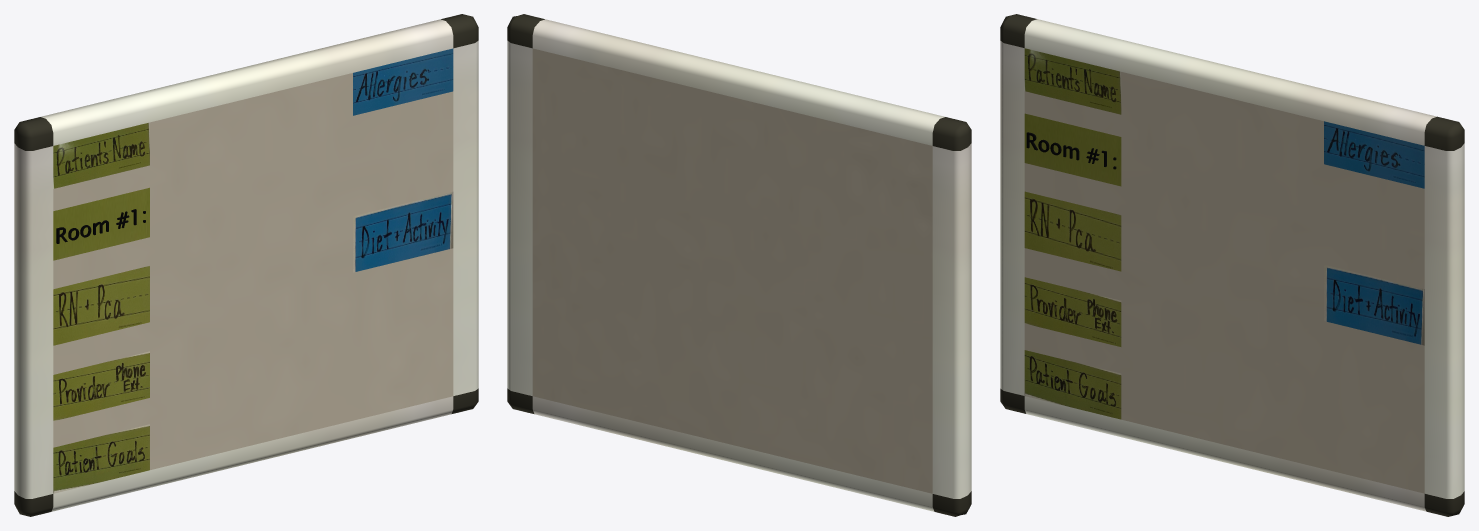
File: room #1.fbx
The picture shows the model from 3 angles, left to right: view 1: azimuth 30°, elevation 25°; view 2: azimuth 150°, elevation 25°; view 3: azimuth 330°, elevation 25°; orthographic projection.
Parts seen in each view (by area): view 1: room__1; view 2: room__1; view 3: room__1.
Boxes of the visible parts, x1,y1,x2,y2 form: room__1: (14, 14, 478, 516); room__1: (507, 14, 971, 516); room__1: (1000, 14, 1464, 516).
Size of the model in its own units: 405 by 331 by 24.25.
